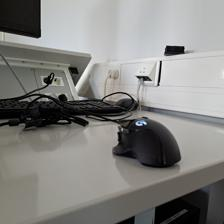mouse: (111, 115, 182, 169)
